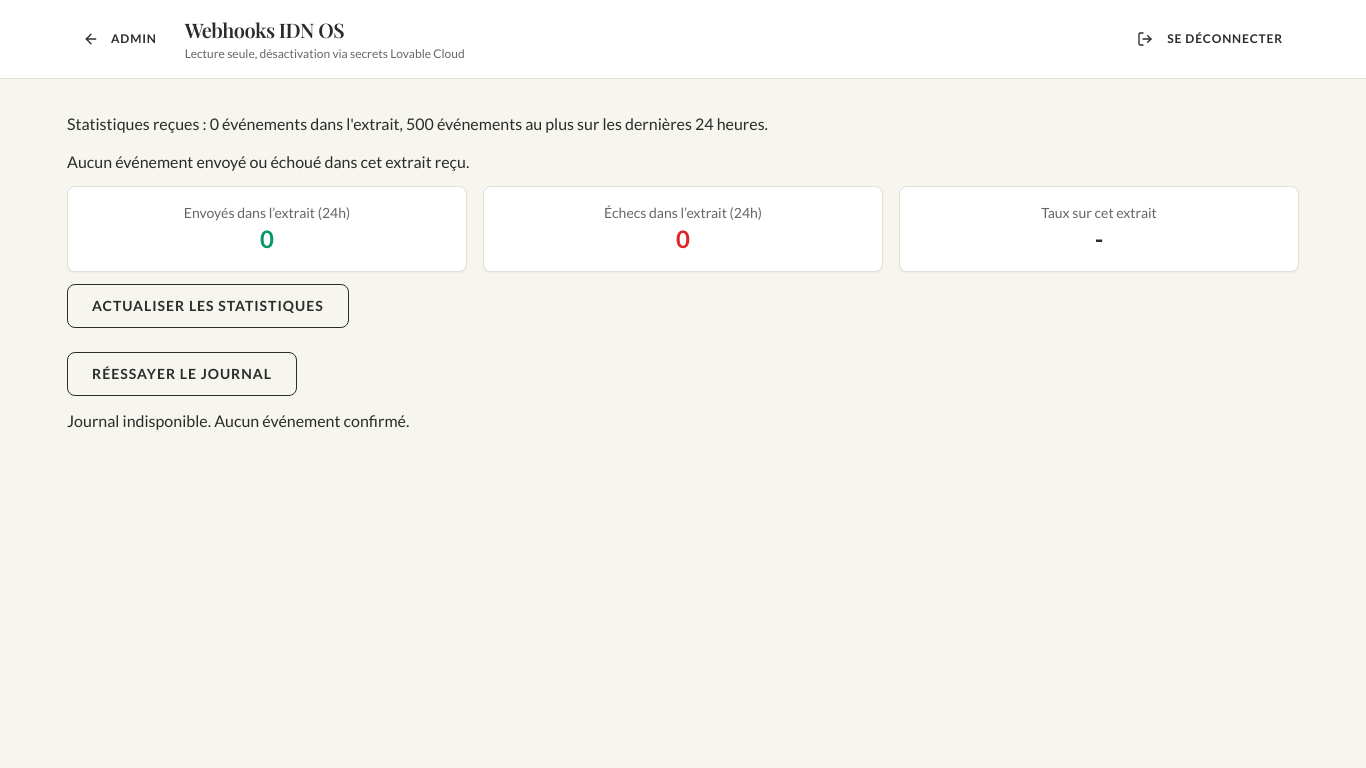
Scenario: borne la lecture 50 indépendamment et ignore sa réponse tardive
The width and height of the screenshot is (1366, 768).
What coordinates should you click on to do the following:
click the button "Réessayer le journal"
I would click on:
 (182, 374)
Its box is left=67, top=352, right=297, bottom=396.
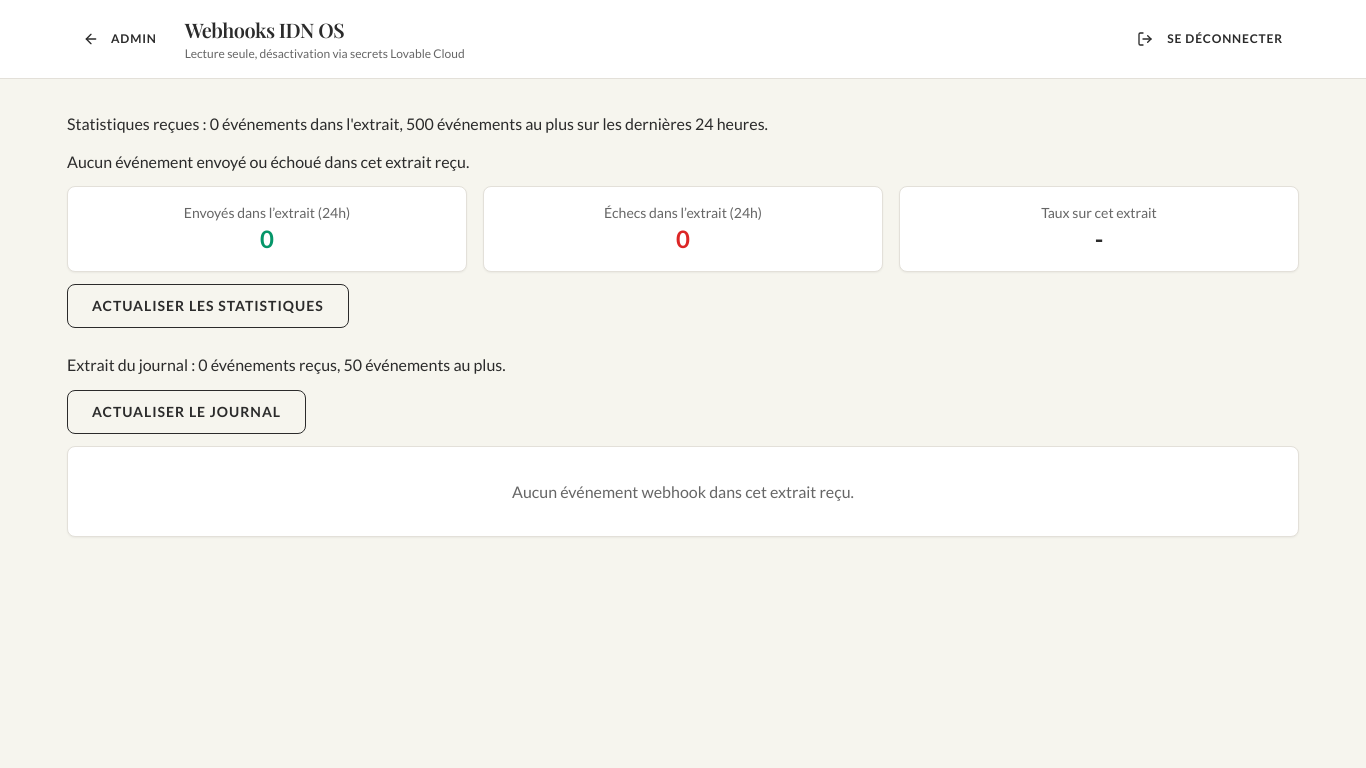
Expected: the text "Journal indisponible" is gone
